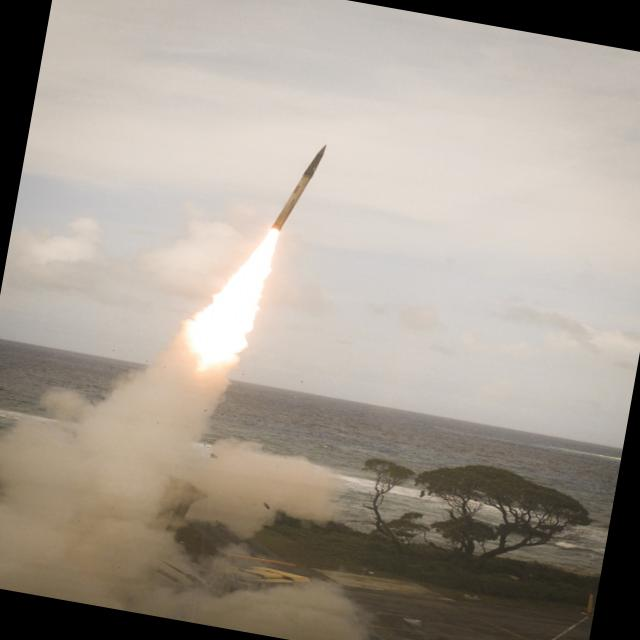rocket: (207, 126, 337, 338)
